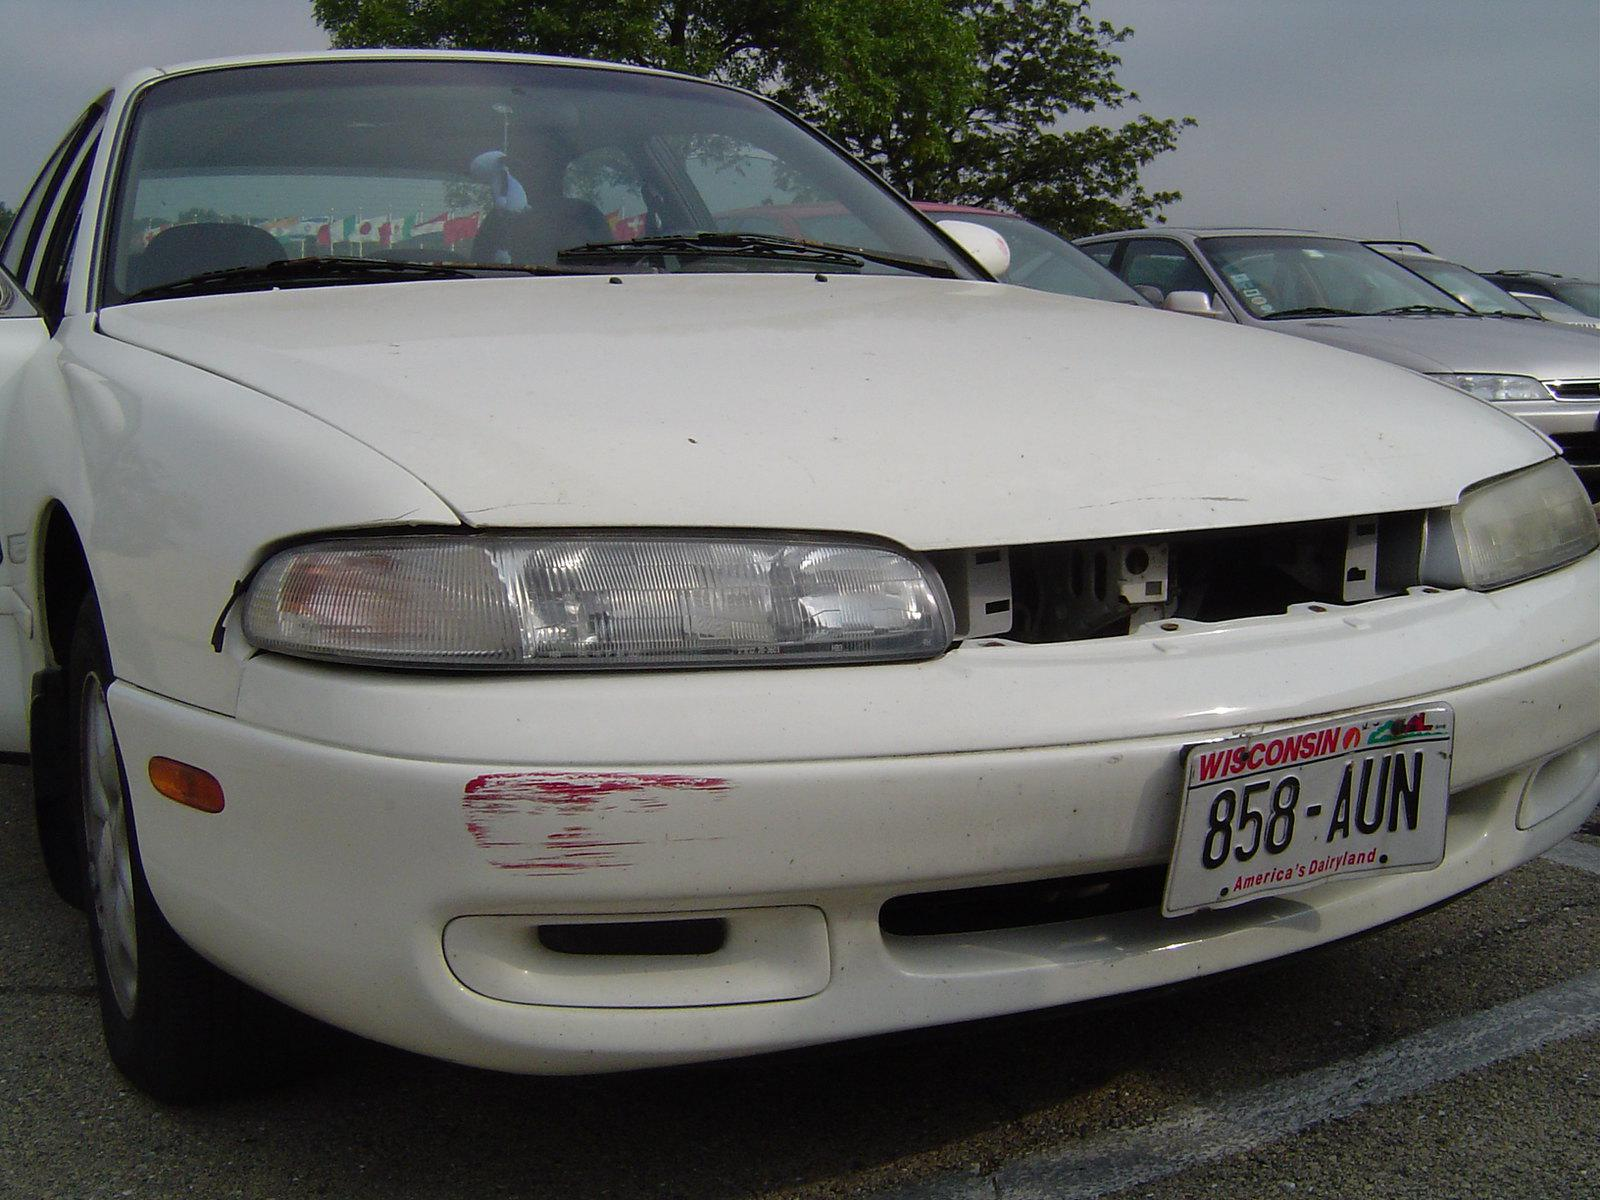front-bumper-dent: (370, 710, 1036, 1034)
